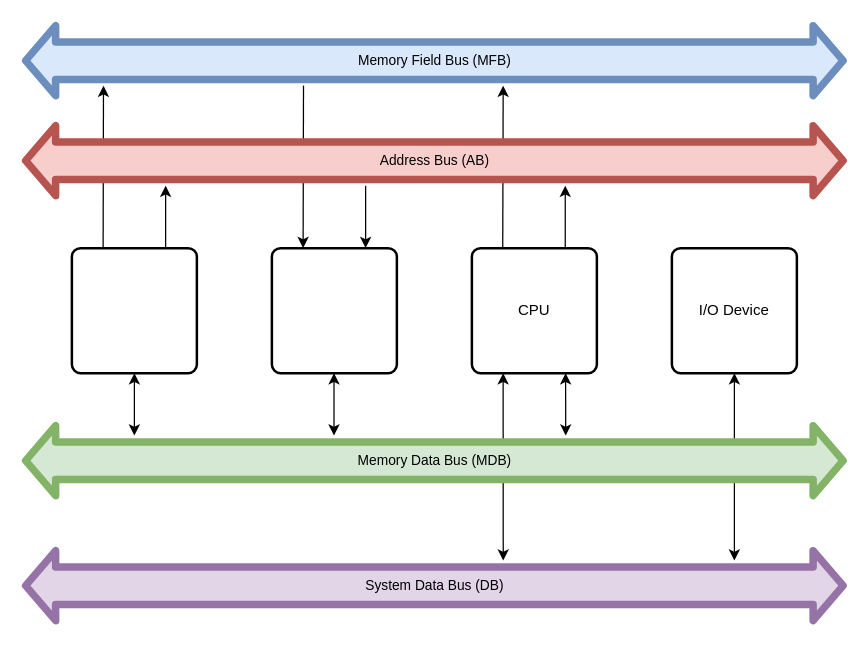
Some shapes in this 868 by 645 pixel diagram are drawn without their labels. The shapes that lost their labels are listed below. From the top down, each one's centre as x and y in pixels, then its label:
At pixel 134 310: "DMA Device".
At pixel 334 310: "Memory".
